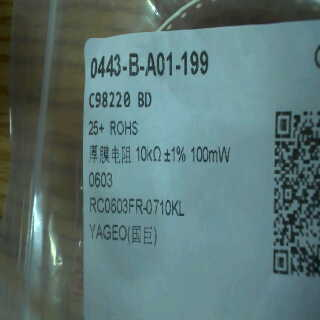10kR: (132, 142, 163, 164)
